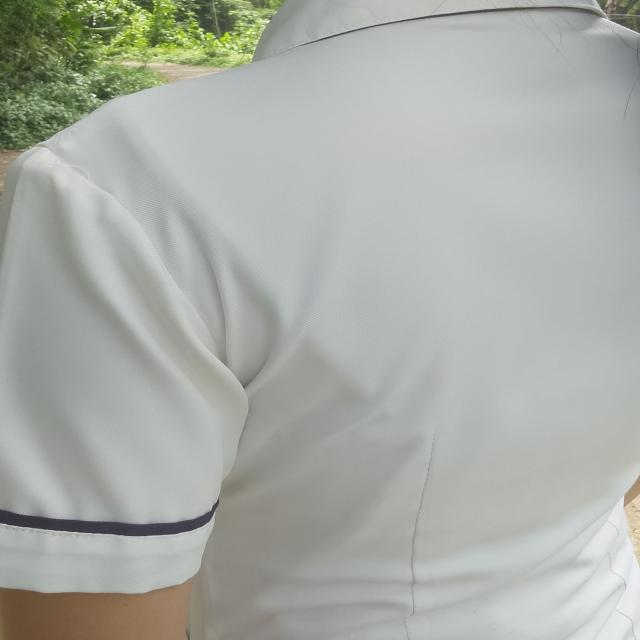education_female_uniform: (6, 4, 640, 623)
